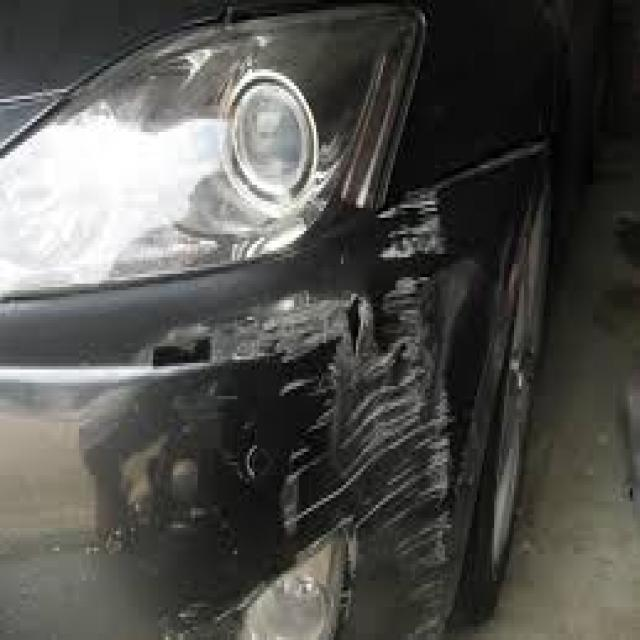minor: (182, 277, 500, 640), (373, 181, 459, 267)
